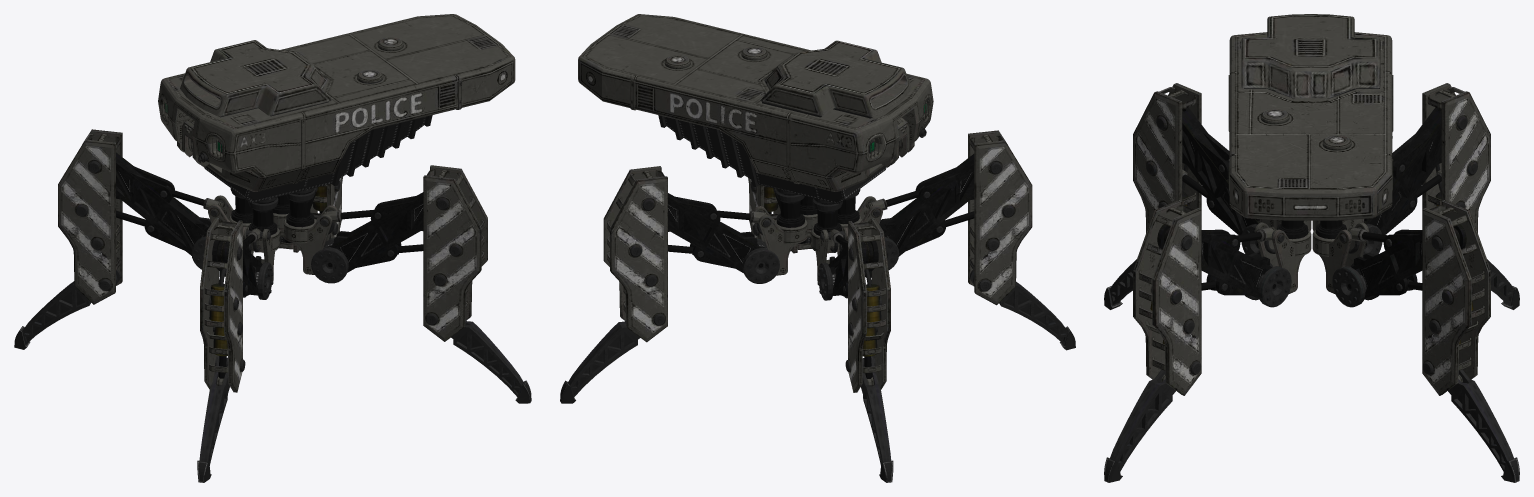
The model's file is Robot.glb.
The picture shows the model from 3 angles, left to right: view 1: azimuth 30°, elevation 25°; view 2: azimuth 150°, elevation 25°; view 3: azimuth 270°, elevation 25°; orthographic projection. The views are drawn at different scales.
Visible parts, largest first — view 1: robot; view 2: robot; view 3: robot.
Part boxes in pixels (x1,y1,x2,y2): robot: [14, 14, 531, 482]; robot: [560, 14, 1075, 482]; robot: [1104, 14, 1519, 482].
Bounding box in the file's own units: 3.04 × 2.34 × 2.59.
Materials: 1 (1 with a texture image).
